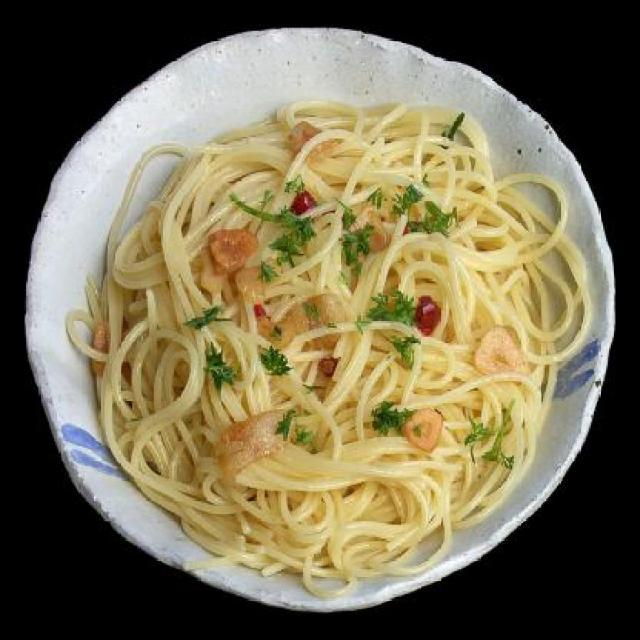Oil pasta: (26, 65, 592, 562)
